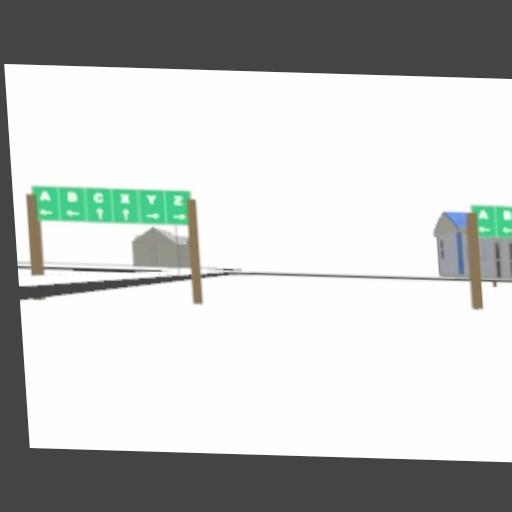A: (38, 191, 52, 203), (478, 209, 489, 221)
B: (66, 191, 78, 204), (503, 210, 512, 221)
C: (92, 192, 104, 205)
Left: (38, 208, 54, 218), (65, 209, 81, 218), (478, 225, 491, 235), (501, 226, 512, 235)
Right: (144, 211, 160, 221), (172, 214, 186, 222)
Straight: (94, 207, 106, 222), (121, 208, 131, 222)
X: (119, 193, 131, 205)
Y: (145, 194, 157, 206)
Z: (173, 195, 185, 207)
